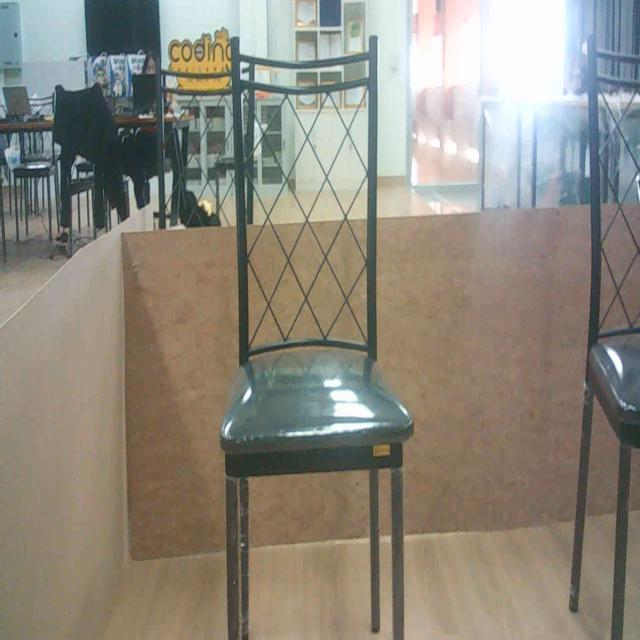emtpy: (218, 46, 423, 640), (580, 36, 640, 640)
